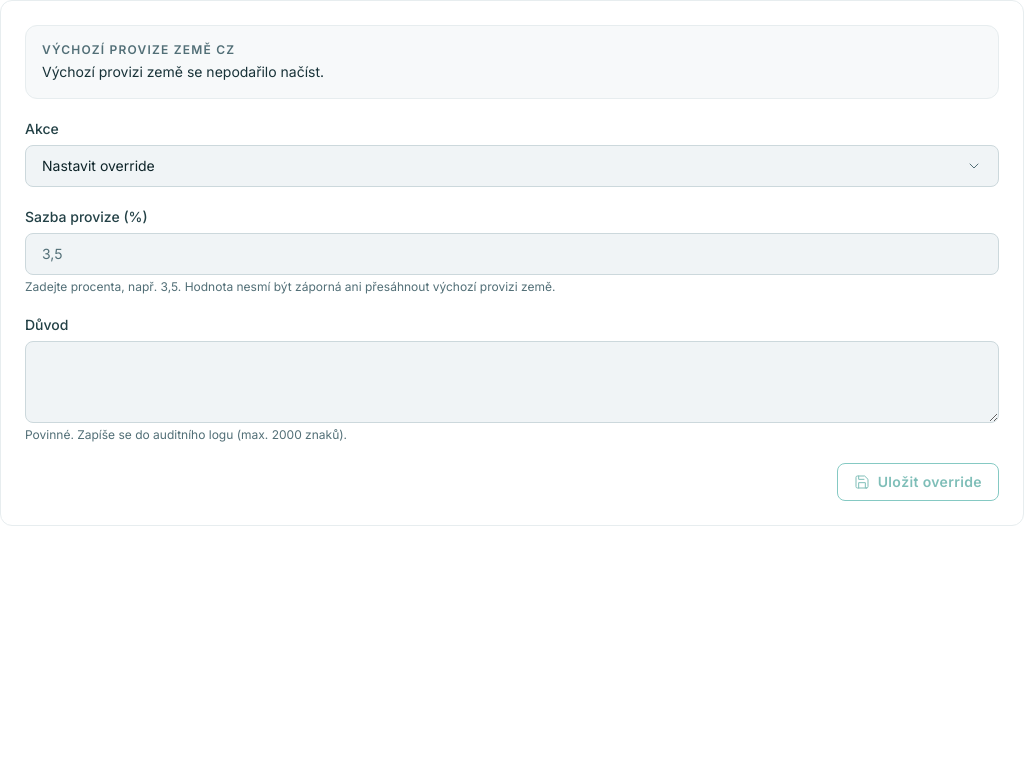
MakerFeeOverrideForm › surfaces the backend error message on a failed submit
The image size is (1024, 768).
In the field labelled "Sazba provize (%)": (512, 254) [25,233,999,275], type "9"
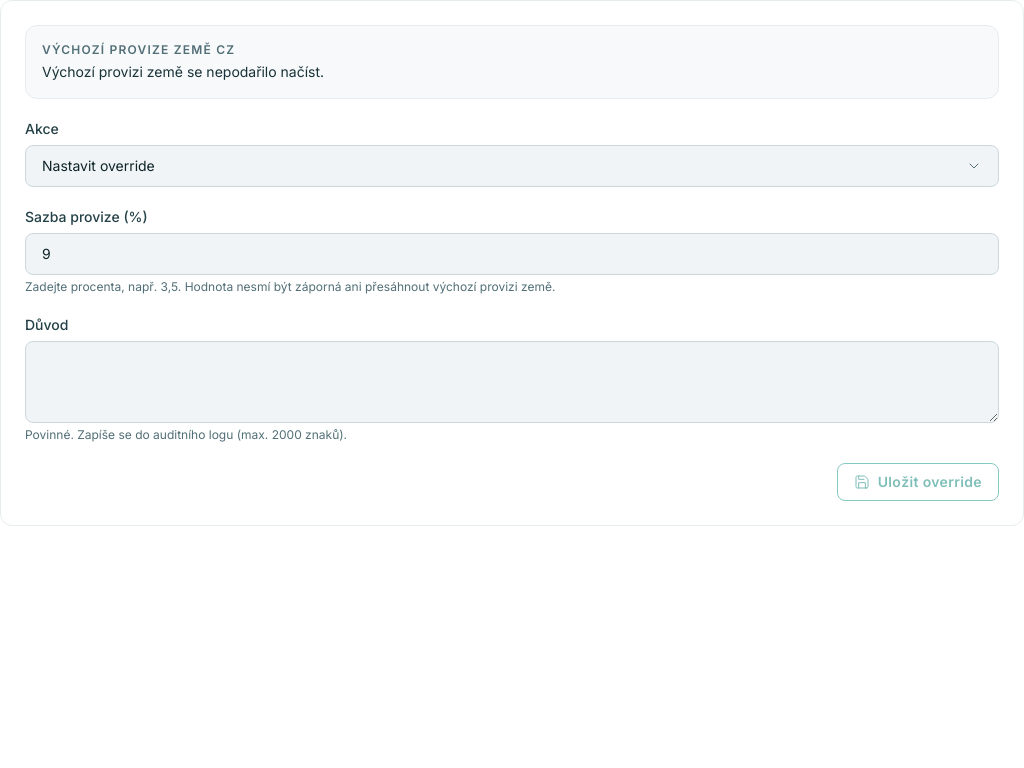
In the text box labelled "Důvod": (512, 382) [25,341,999,423], type "Testovací důvod"
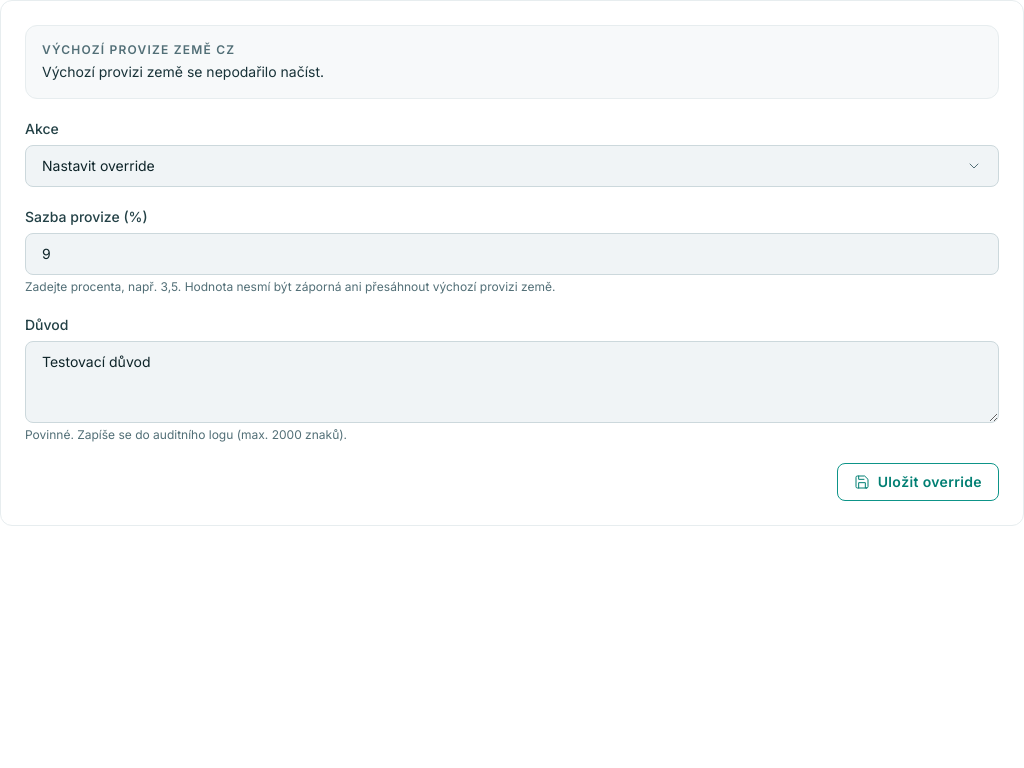
Click the button "Uložit override": (918, 482) [837,463,999,501]
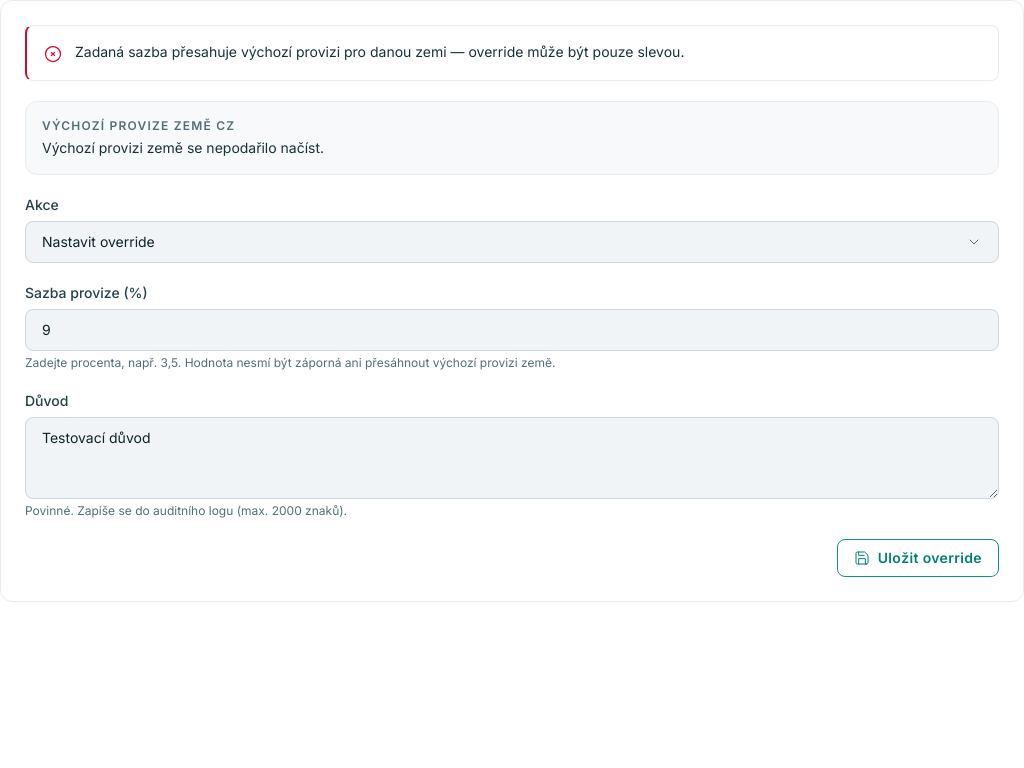
Check: the text "Zadaná sazba přesahuje výchozí provizi pro danou zemi — override může být pouze slevou." is shown, box [75,43,684,60]
